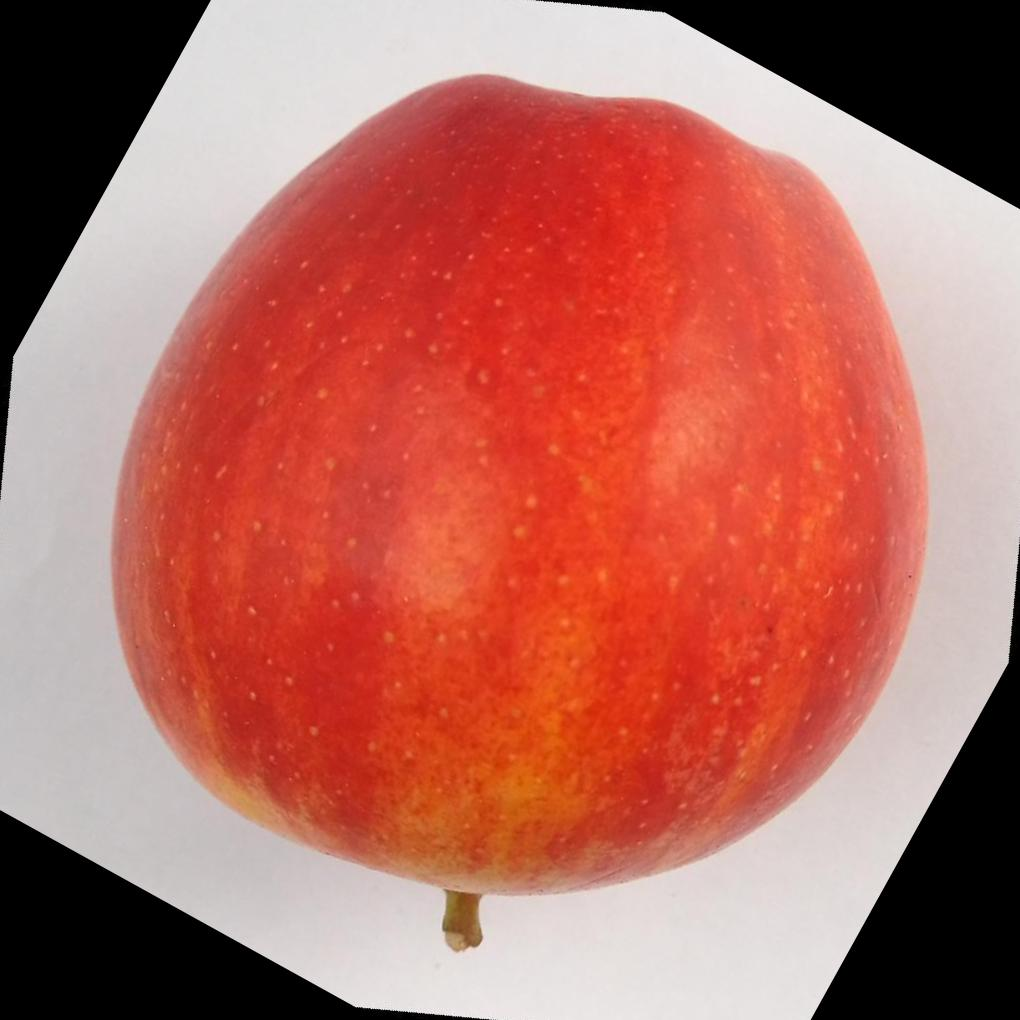FreshGuava: (104, 68, 930, 897)
